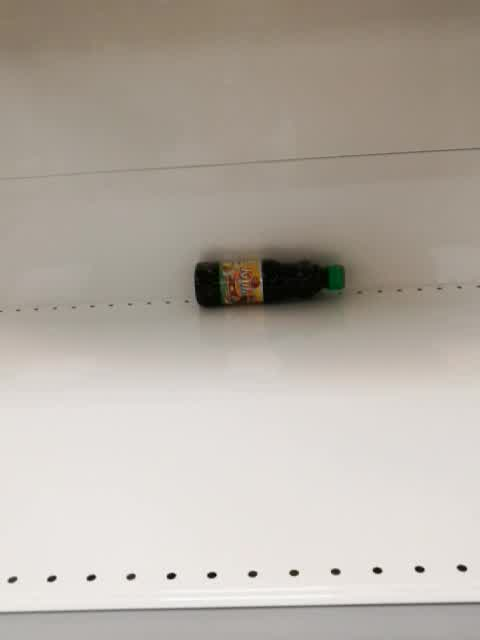cookingoil: (191, 259, 349, 308)
